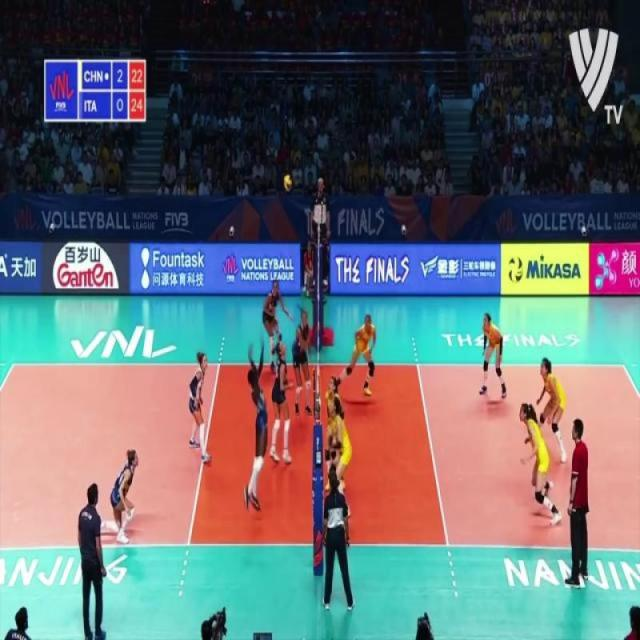volleyball: (507, 256, 524, 286), (284, 172, 293, 192)
